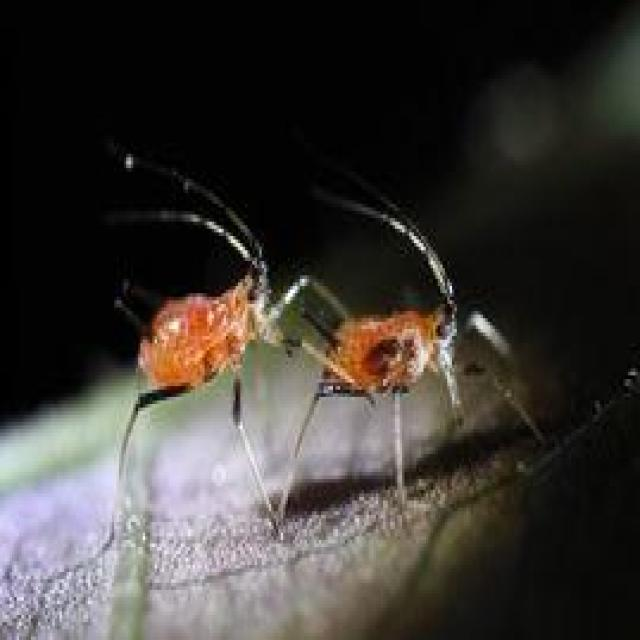Aphids: (287, 159, 563, 563), (99, 123, 315, 530)
